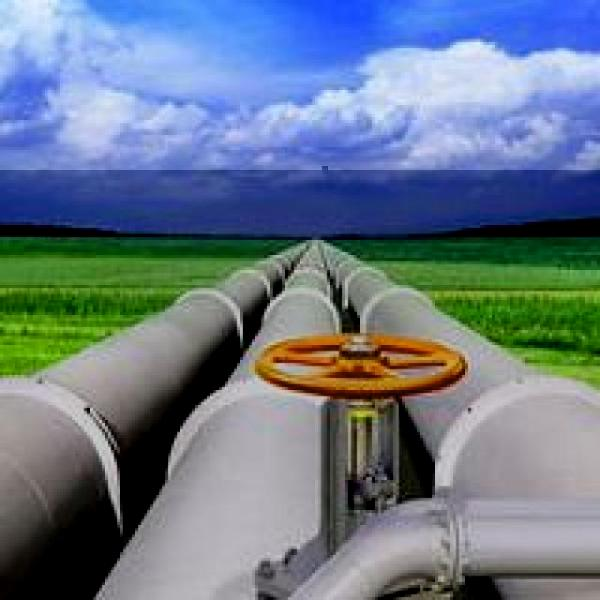no leak: (0, 170, 600, 600), (322, 166, 328, 174)
